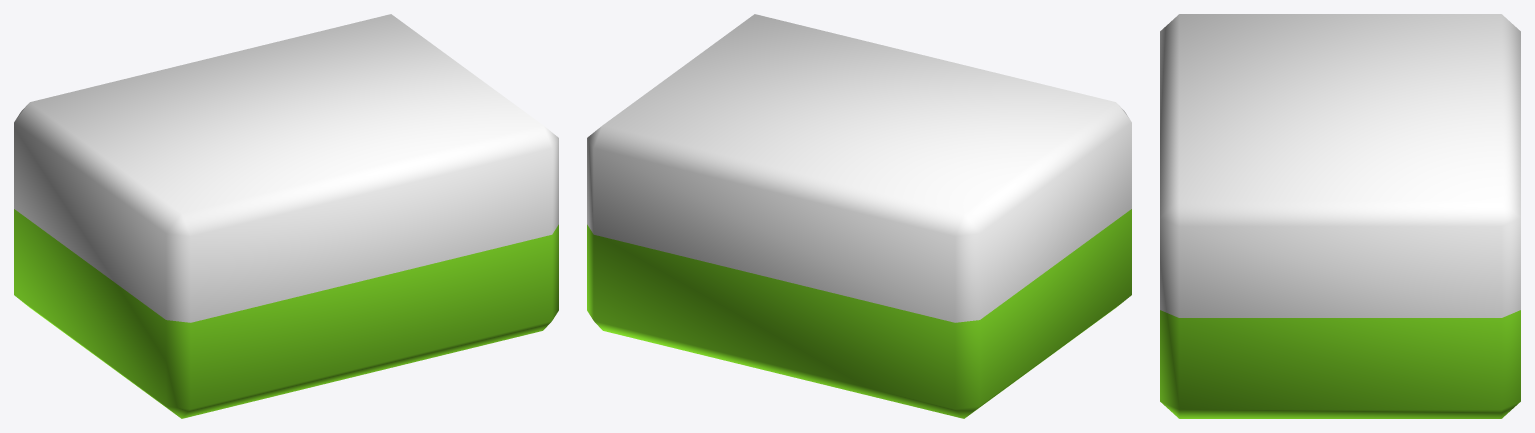
Rendered from tiles_site_1.glb.
The picture shows the model from 3 angles, left to right: view 1: azimuth 30°, elevation 25°; view 2: azimuth 150°, elevation 25°; view 3: azimuth 270°, elevation 25°; orthographic projection. The views are drawn at different scales.
Visible parts, largest first — view 1: Cube; view 2: Cube; view 3: Cube.
Boxes of the visible parts, x1,y1,x2,y2 form: Cube: [14, 14, 558, 418]; Cube: [587, 14, 1131, 418]; Cube: [1160, 14, 1520, 418].
Bounding box in the file's own units: 2 × 1 × 1.5.
